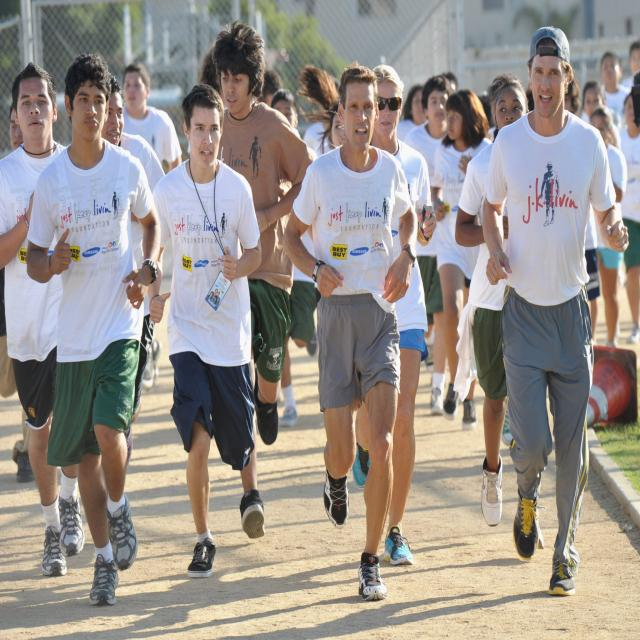body: (478, 21, 632, 601), (22, 46, 167, 610), (279, 59, 422, 606), (23, 47, 158, 611), (136, 82, 272, 583), (0, 551, 549, 640), (1, 61, 88, 579), (210, 18, 312, 450), (351, 63, 438, 568), (455, 76, 536, 528), (101, 72, 170, 436), (430, 89, 494, 432), (403, 76, 453, 416), (270, 87, 319, 428), (0, 100, 37, 484), (589, 106, 628, 348), (116, 61, 184, 178), (623, 38, 640, 341), (563, 76, 620, 140), (599, 50, 632, 127), (396, 82, 428, 146), (256, 67, 280, 106), (474, 87, 494, 129), (202, 39, 221, 83), (442, 68, 464, 92), (524, 79, 534, 117)
